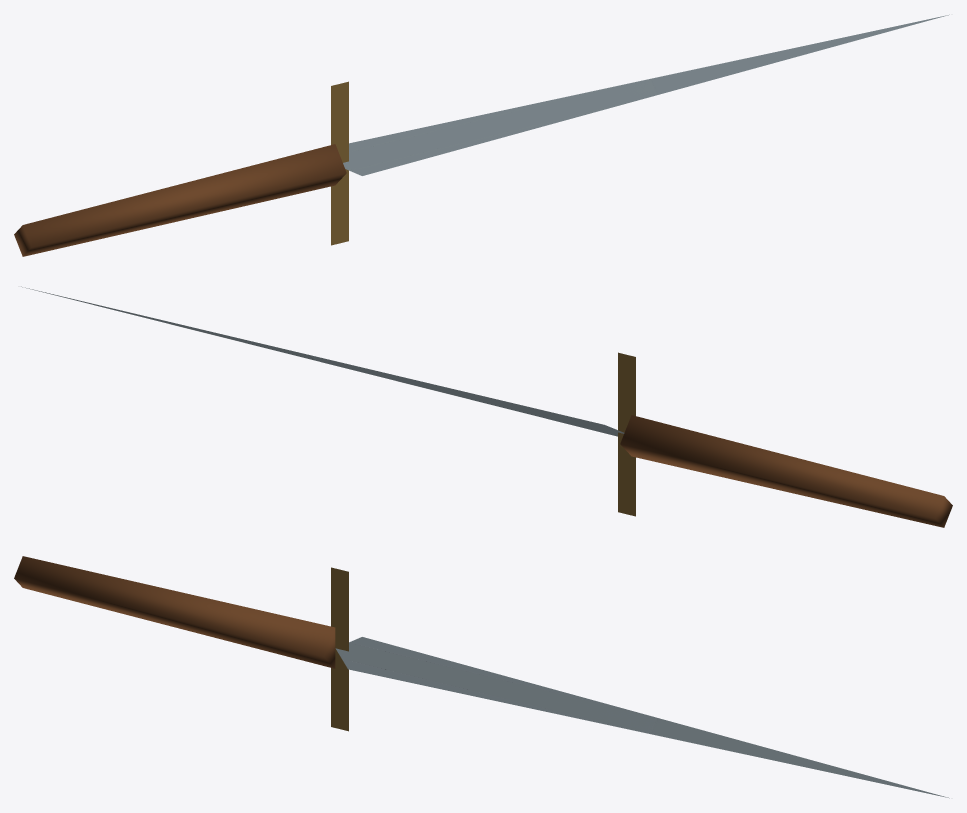
Rendered from plug_bayonet_lod1.glb.
3 renders of one model, top to bottom at view 1: azimuth 30°, elevation 25°; view 2: azimuth 150°, elevation 25°; view 3: azimuth 330°, elevation 25°, orthographic.
Parts seen in each view (by area): view 1: WeaponMesh.025; view 2: WeaponMesh.025; view 3: WeaponMesh.025.
Part boxes in pixels (x1,y1,x2,y2): WeaponMesh.025: [14, 14, 949, 256]; WeaponMesh.025: [21, 286, 952, 527]; WeaponMesh.025: [14, 556, 949, 798].
Size of the model in its own units: 0.61 by 0.1 by 0.026.
